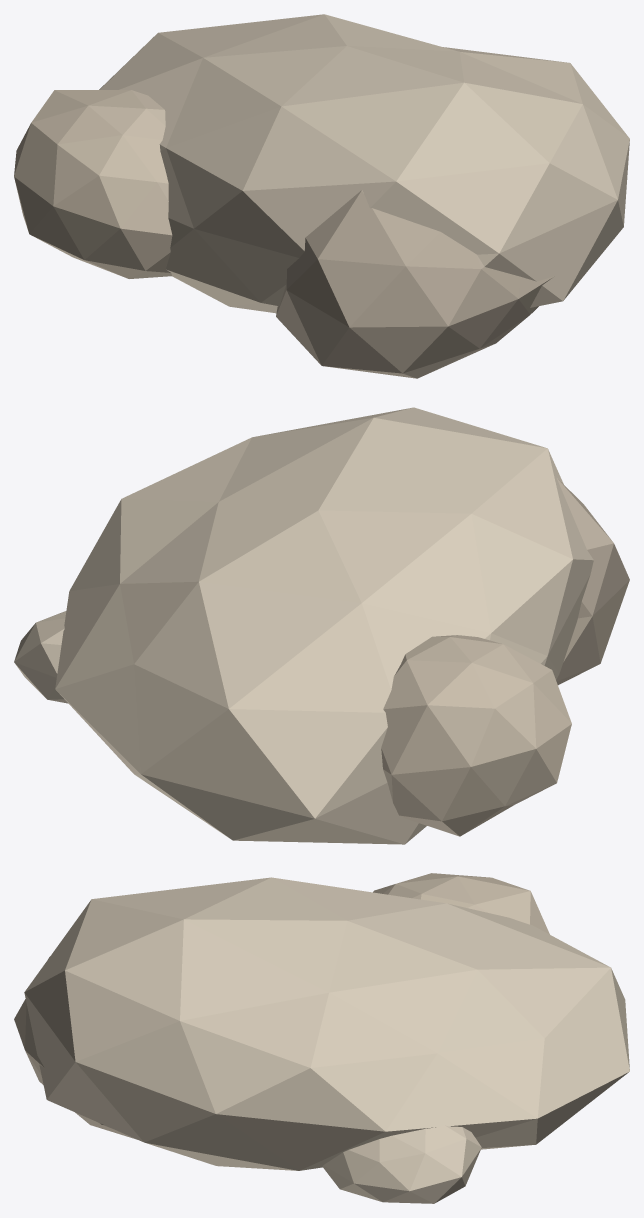
Rendered from campo_rock_cluster_4.glb.
The picture shows the model from 3 angles, top to bottom: view 1: azimuth 30°, elevation 25°; view 2: azimuth 150°, elevation 25°; view 3: azimuth 270°, elevation 25°; orthographic projection. The views are drawn at different scales.
Visible parts, largest first — view 1: campo_rock_cluster_4.glb; view 2: campo_rock_cluster_4.glb; view 3: campo_rock_cluster_4.glb.
Boxes of the visible parts, <box> form: campo_rock_cluster_4.glb: <box>14,14,629,378</box>; campo_rock_cluster_4.glb: <box>14,407,629,844</box>; campo_rock_cluster_4.glb: <box>14,873,629,1203</box>.
Bounding box in the file's own units: 2.24 × 1.04 × 2.39.
